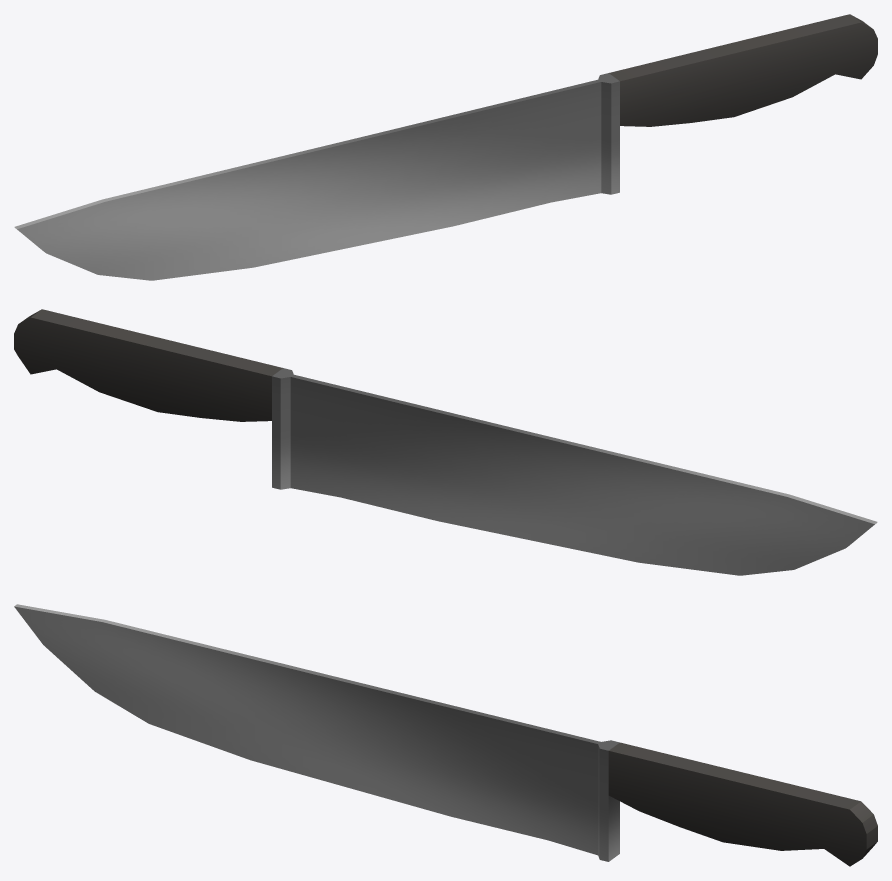
Rendered from Carving Knife.fbx.
3 renders of one model, top to bottom at view 1: azimuth 30°, elevation 25°; view 2: azimuth 150°, elevation 25°; view 3: azimuth 330°, elevation 25°, orthographic.
Visible parts, largest first — view 1: Carving Knife; view 2: Carving Knife; view 3: Carving Knife.
Part boxes in pixels (<box>): Carving Knife: <box>14,14,877,280</box>; Carving Knife: <box>14,309,877,575</box>; Carving Knife: <box>14,604,877,866</box>.
Bounding box in the file's own units: 41.87 × 5.25 × 0.9618.
